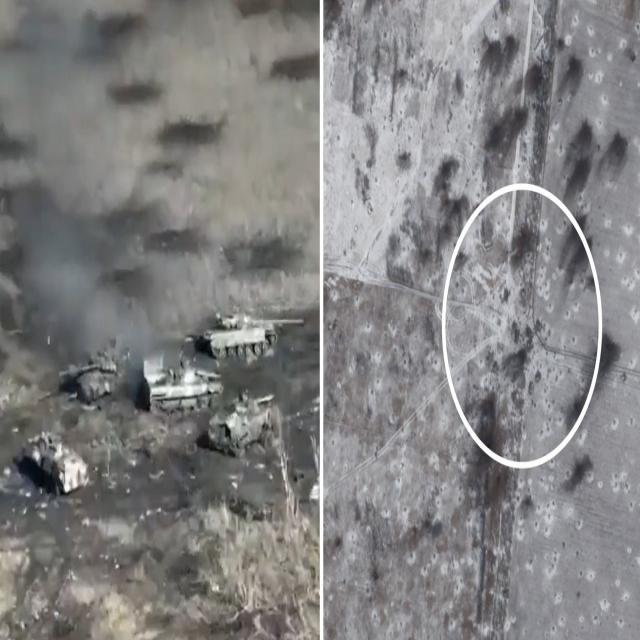apc: (142, 367, 224, 418), (210, 396, 274, 458), (21, 436, 88, 492)
cars: (529, 383, 534, 395), (515, 329, 520, 341), (534, 322, 540, 332), (504, 288, 508, 301), (527, 330, 533, 338), (536, 374, 540, 382)
tank: (71, 343, 139, 404), (202, 317, 276, 362)
